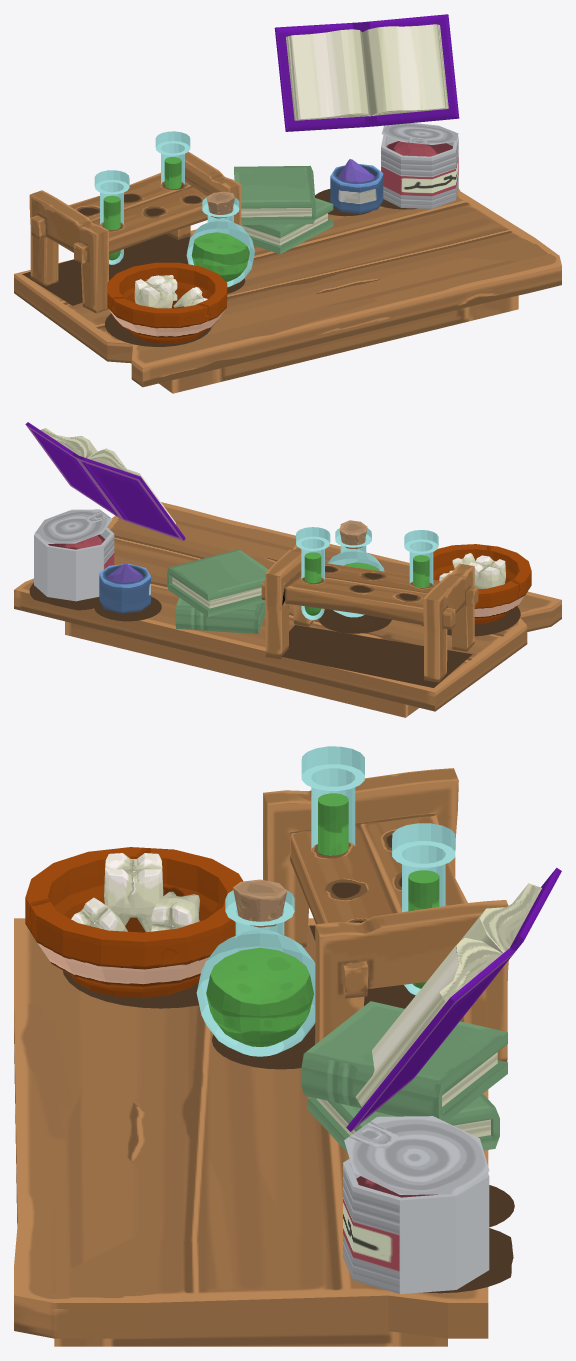
The model's file is fusionTable.glb.
3 renders of one model, top to bottom at view 1: azimuth 30°, elevation 25°; view 2: azimuth 150°, elevation 25°; view 3: azimuth 270°, elevation 25°, orthographic. The views are drawn at different scales.
Parts seen in each view (by area): view 1: Table, Book, Stand, Circle.001, Can, Cube.001_Small Things_0, Circle, Potion, Powder, Cube_Small Things_0, Potion(1).001, Potion(1) (+1 smaller); view 2: Table, Stand, Circle, Book, Can, Cube.001_Small Things_0, Circle.001, Powder, Cube_Small Things_0, Potion, Potion(1), Potion(1).001 (+1 smaller); view 3: Table, Stand, Can, Circle.001, Potion, Cube.001_Small Things_0, Book, Circle, Potion(1).001, Potion(1), Tooth, Cube_Small Things_0 (+2 smaller).
Part boxes in pixels (box(x1,y1,x2,y2)): Table: box(14, 188, 561, 393); Book: box(274, 14, 459, 131); Stand: box(29, 151, 241, 313); Circle.001: box(107, 262, 227, 343); Can: box(381, 123, 458, 208); Cube.001_Small Things_0: box(234, 165, 315, 224); Circle: box(22, 189, 417, 346); Potion: box(186, 191, 254, 287); Powder: box(330, 159, 383, 213); Cube_Small Things_0: box(241, 198, 333, 254); Potion(1).001: box(94, 170, 129, 264); Potion(1): box(155, 131, 190, 188); Table: box(14, 502, 561, 717); Stand: box(261, 545, 478, 682); Circle: box(29, 583, 520, 687); Book: box(25, 422, 185, 540); Can: box(34, 509, 114, 601); Cube.001_Small Things_0: box(167, 549, 268, 616); Circle.001: box(433, 544, 531, 624); Powder: box(99, 563, 150, 613); Cube_Small Things_0: box(175, 598, 265, 633); Potion: box(328, 520, 384, 617); Potion(1): box(296, 527, 330, 620); Potion(1).001: box(404, 530, 438, 587); Table: box(14, 918, 488, 1346); Stand: box(263, 768, 508, 1061); Can: box(343, 1116, 489, 1294); Circle.001: box(25, 847, 242, 998); Potion: box(196, 879, 315, 1056); Cube.001_Small Things_0: box(301, 1001, 507, 1122); Book: box(346, 867, 561, 1131); Circle: box(62, 925, 514, 1293); Potion(1).001: box(301, 746, 364, 855); Potion(1): box(392, 823, 455, 995); Tooth: box(104, 853, 163, 932); Cube_Small Things_0: box(307, 1094, 499, 1152).
Size of the model in its own units: 11.28 by 5.25 by 6.79.
4 materials, 3 textured.
